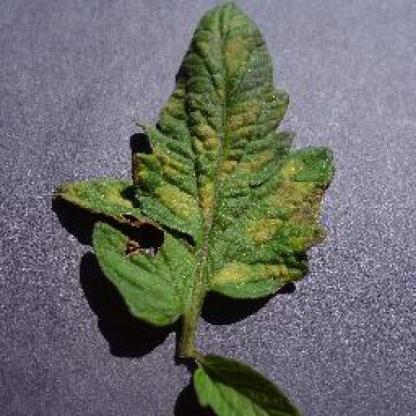Tomato_Leaf_Mold: (63, 16, 335, 323)
